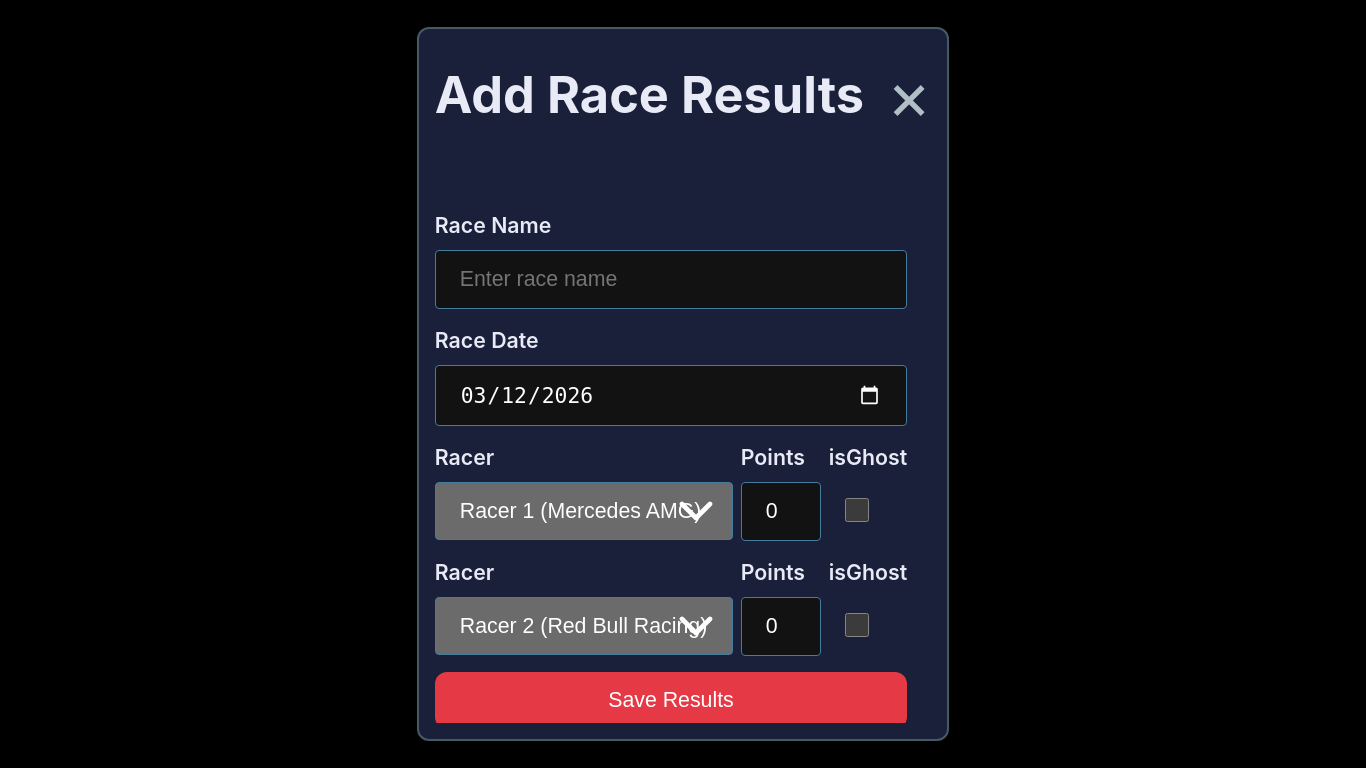
Test: AddRaceResultsModal Component › shows error when race name is empty on submit
Click the button "Save Results": (671, 700) [435,672,907,729]
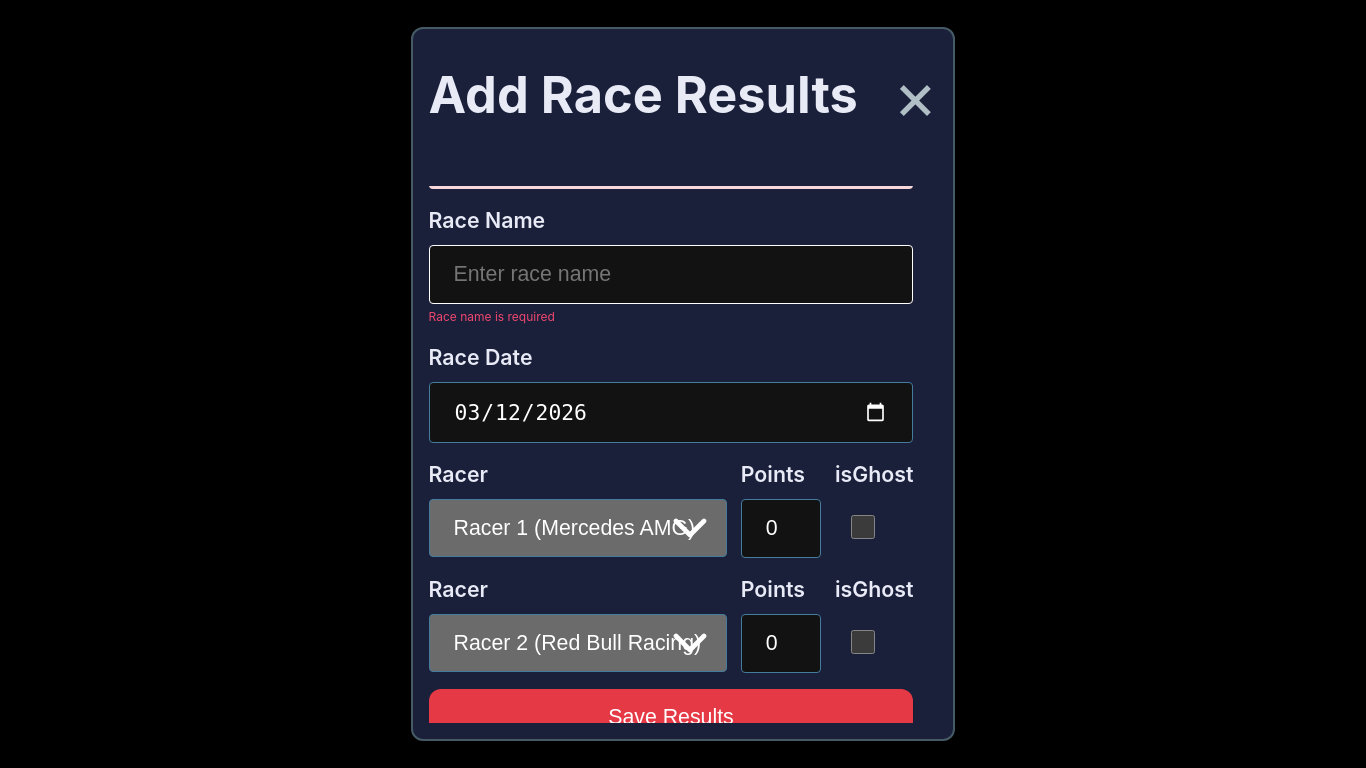
Check: the text "Race name is required" is shown, box [428,309,555,324]
